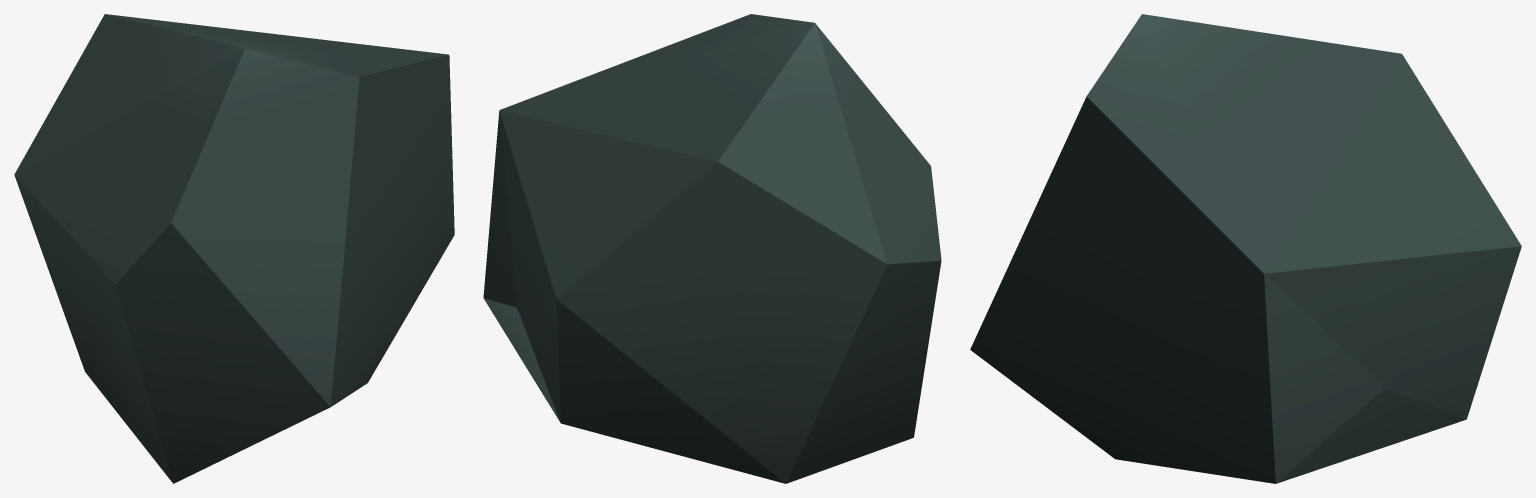
The model's file is FBX_Rocks_04.fbx.
3 views of the same model, side by side, from view 1: azimuth 30°, elevation 25°; view 2: azimuth 150°, elevation 25°; view 3: azimuth 270°, elevation 25° (orthographic). The views are drawn at different scales.
Parts seen in each view (by area): view 1: M_Rock_04; view 2: M_Rock_04; view 3: M_Rock_04.
Boxes of the visible parts, <box> form: M_Rock_04: <box>14,14,454,483</box>; M_Rock_04: <box>483,14,941,483</box>; M_Rock_04: <box>970,14,1521,483</box>.
Size of the model in its own units: 1.33 by 1.21 by 1.37.
